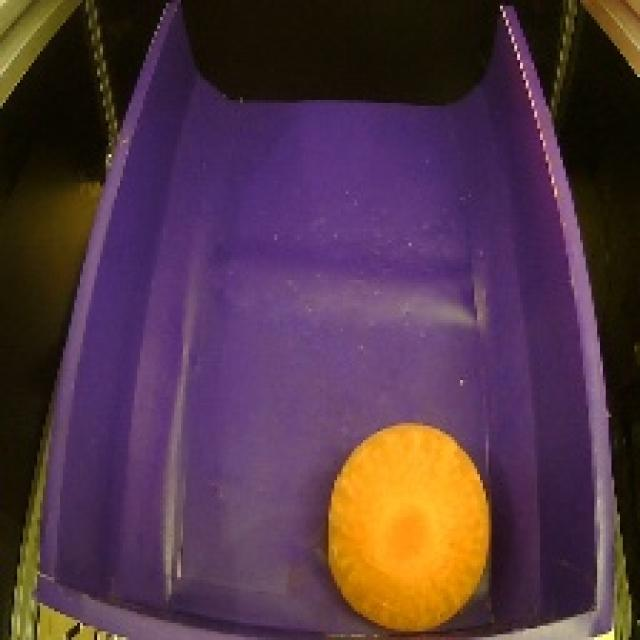carrots: (314, 414, 502, 639)
